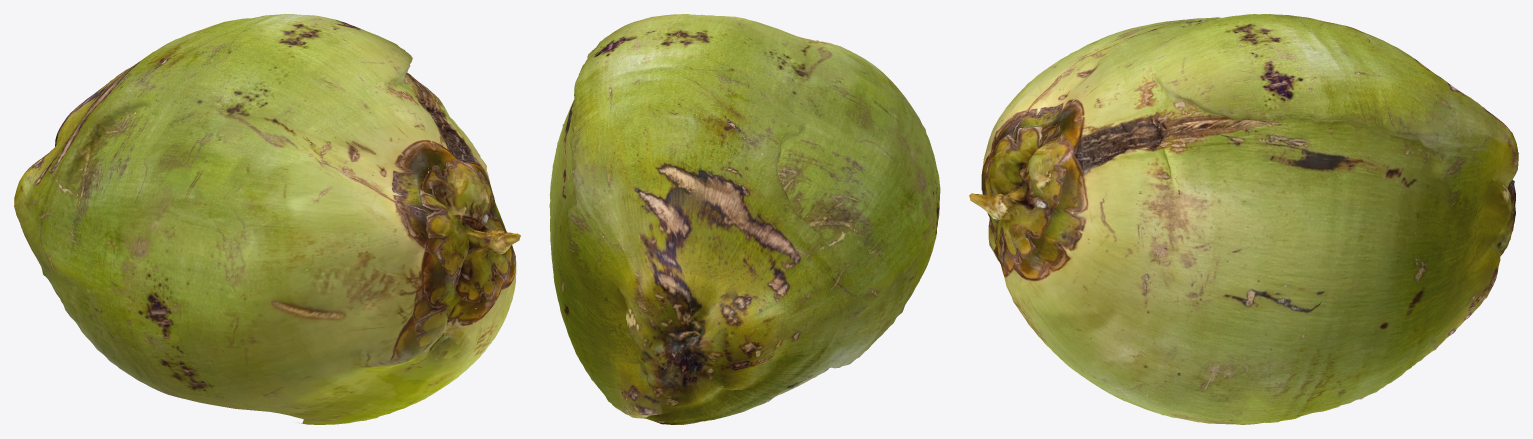
Rendered from day_252_tender_coconut.glb.
The picture shows the model from 3 angles, left to right: view 1: azimuth 30°, elevation 25°; view 2: azimuth 150°, elevation 25°; view 3: azimuth 270°, elevation 25°; orthographic projection. The views are drawn at different scales.
Parts seen in each view (by area): view 1: Object_4; view 2: Object_4; view 3: Object_4.
Boxes of the visible parts, x1,y1,x2,y2 form: Object_4: (14, 14, 520, 424); Object_4: (549, 14, 940, 424); Object_4: (969, 14, 1518, 424).
Bounding box in the file's own units: 0.187 × 0.1816 × 0.2417.
Materials: 1 (1 with a texture image).
